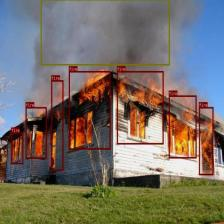fire: (117, 71, 163, 144), (69, 70, 110, 150), (168, 95, 196, 158), (51, 80, 63, 171), (26, 106, 46, 158), (199, 107, 213, 175), (11, 132, 23, 164)
smoke: (41, 0, 170, 65)
